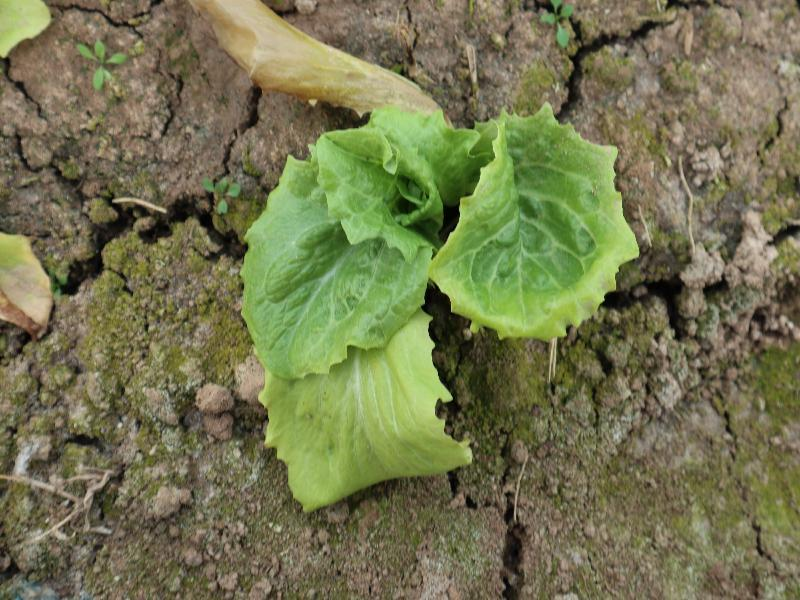lettuce: (239, 102, 641, 512)
